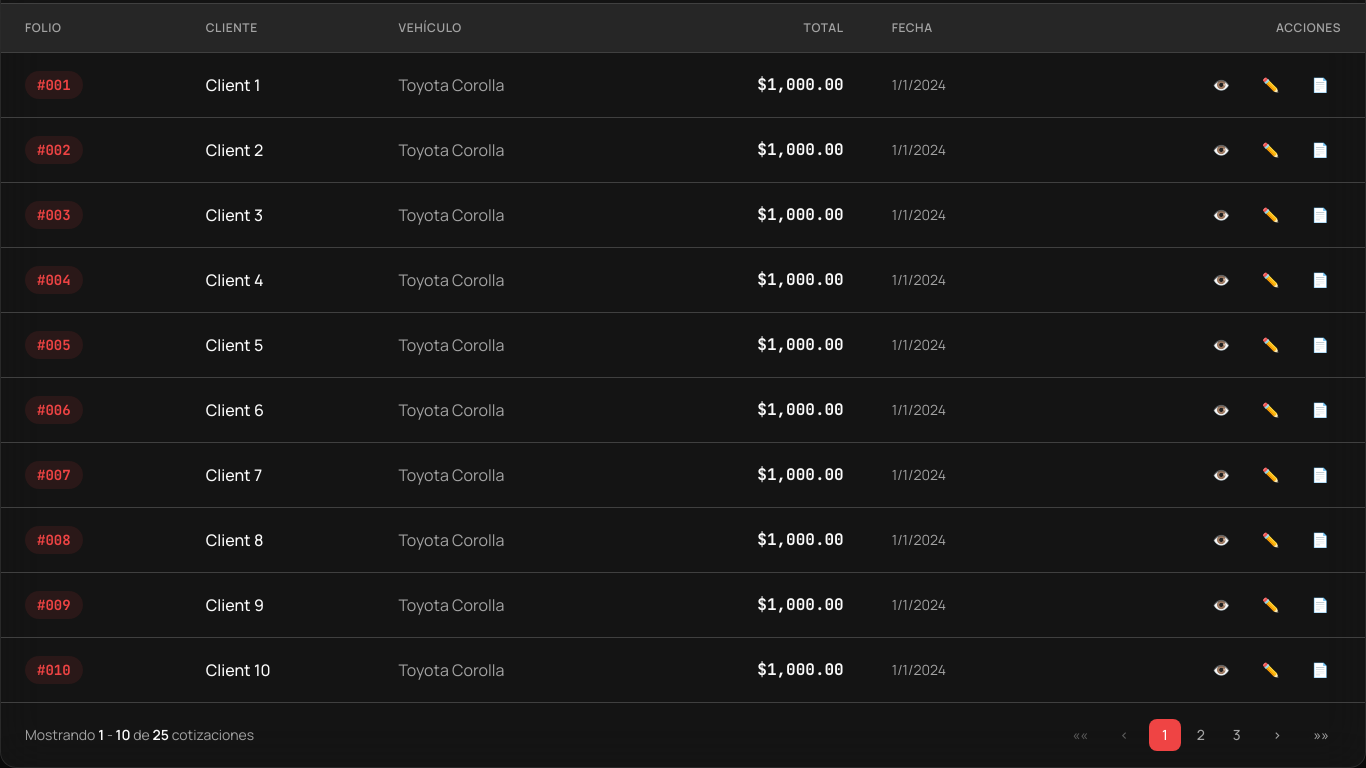
Test: QuotationList component › navigates to first and last page
The width and height of the screenshot is (1366, 768).
(page scrolled)
Note: Go to last page
Click the button "»»". click: [1321, 735]
box: top-left (1302, 719), bottom-right (1341, 751)
(page scrolled)
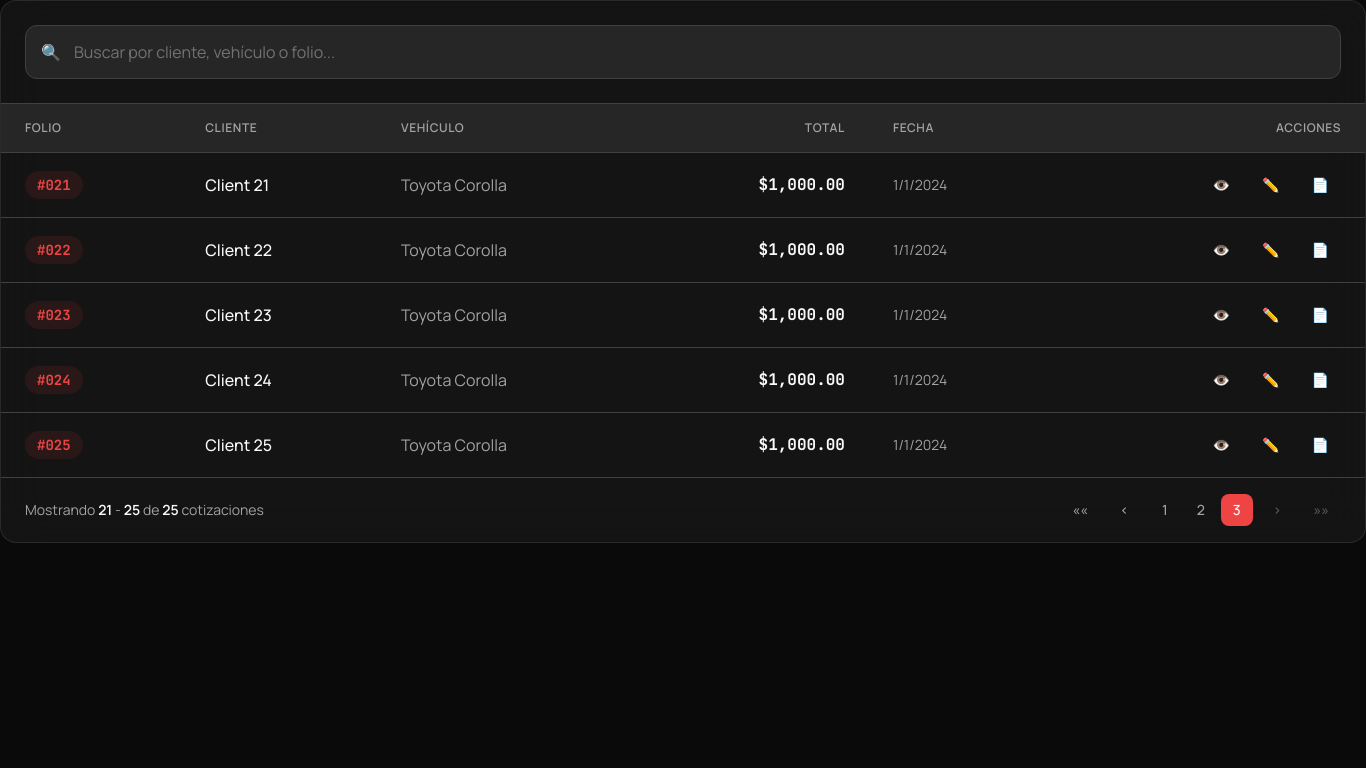
Expected: the text "Client 21" is shown, top-left (181, 152), bottom-right (377, 218)
Note: Go back to first page
Click the button "««". click: [1080, 510]
box: top-left (1061, 494), bottom-right (1100, 526)
(page scrolled)
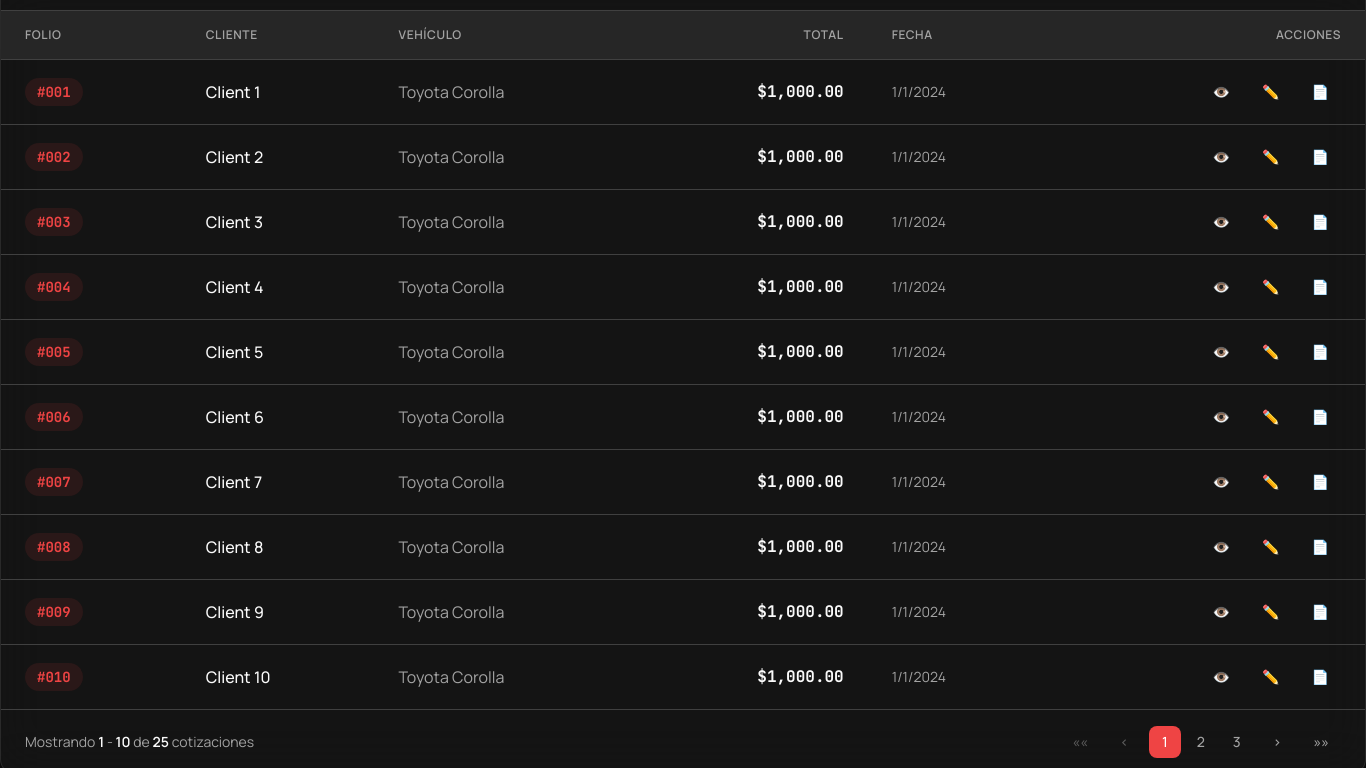
Expected: the table shows "Client 1", top-left (206, 81), bottom-right (260, 103)
